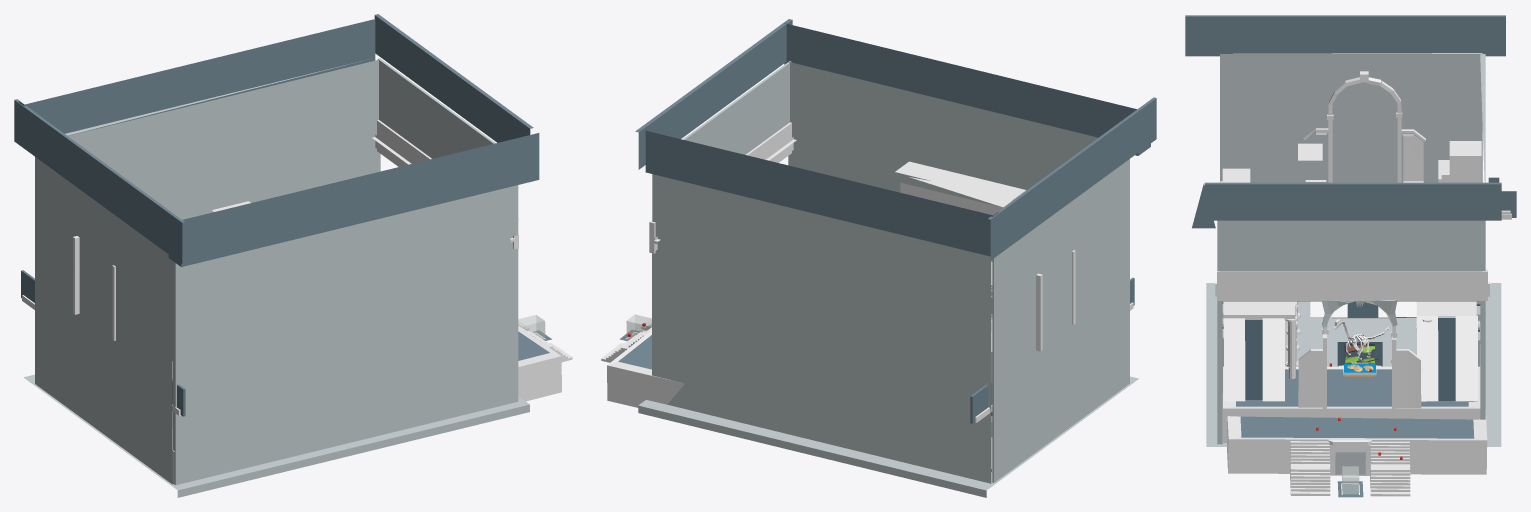
File: The Entryway - Museum Diorama.glb
3 renders of one model, left to right at view 1: azimuth 30°, elevation 25°; view 2: azimuth 150°, elevation 25°; view 3: azimuth 270°, elevation 25°, orthographic. The views are drawn at different scales.
Parts seen in each view (by area): view 1: group853941034, group395243803, group156993652, group1953011220, group1925979723, group689543294, group436196863, group793193501, group558278867, group1166085555.001, group1676229897, group149663869; view 2: group156993652, group395243803, group853941034, group1925979723, group1953011220, group689543294, group558278867, group436196863, group793193501, group1166085555.001, group1152385336, group736884139 (+3 smaller); view 3: group395243803, group1166085555.001, group793193501, group689543294, group436196863, group558278867, group1676229897, group1166085555, group1319333405.001, group1319333405.002, group391671949, group149663869 (+12 smaller).
Boxes of the visible parts, x1,y1,x2,y2 form: group853941034: [172, 185, 518, 485]; group395243803: [35, 157, 172, 484]; group156993652: [65, 60, 380, 219]; group1953011220: [168, 133, 539, 266]; group1925979723: [18, 19, 375, 135]; group689543294: [14, 99, 184, 263]; group436196863: [374, 14, 533, 142]; group793193501: [377, 58, 495, 158]; group558278867: [23, 374, 529, 497]; group1166085555.001: [518, 315, 572, 401]; group1676229897: [377, 120, 519, 220]; group149663869: [73, 236, 115, 340]; group156993652: [652, 174, 991, 483]; group395243803: [992, 159, 1129, 482]; group853941034: [788, 62, 1098, 207]; group1925979723: [645, 130, 998, 256]; group1953011220: [784, 23, 1150, 155]; group689543294: [988, 97, 1156, 260]; group558278867: [638, 376, 1138, 497]; group436196863: [635, 19, 792, 169]; group793193501: [682, 61, 791, 154]; group1166085555.001: [601, 314, 684, 407]; group1152385336: [895, 161, 1026, 200]; group736884139: [900, 177, 1011, 261]; group395243803: [1220, 53, 1482, 182]; group1166085555.001: [1227, 409, 1487, 497]; group793193501: [1219, 220, 1482, 301]; group689543294: [1185, 15, 1505, 56]; group436196863: [1204, 182, 1501, 220]; group558278867: [1206, 283, 1501, 446]; group1676229897: [1217, 269, 1487, 300]; group1166085555: [1223, 360, 1480, 442]; group1319333405.001: [1223, 318, 1284, 401]; group1319333405.002: [1416, 315, 1477, 401]; group391671949: [1298, 301, 1421, 411]; group149663869: [1303, 71, 1426, 182].
Bounding box in the file's own units: 11.92 × 7.31 × 7.96.
